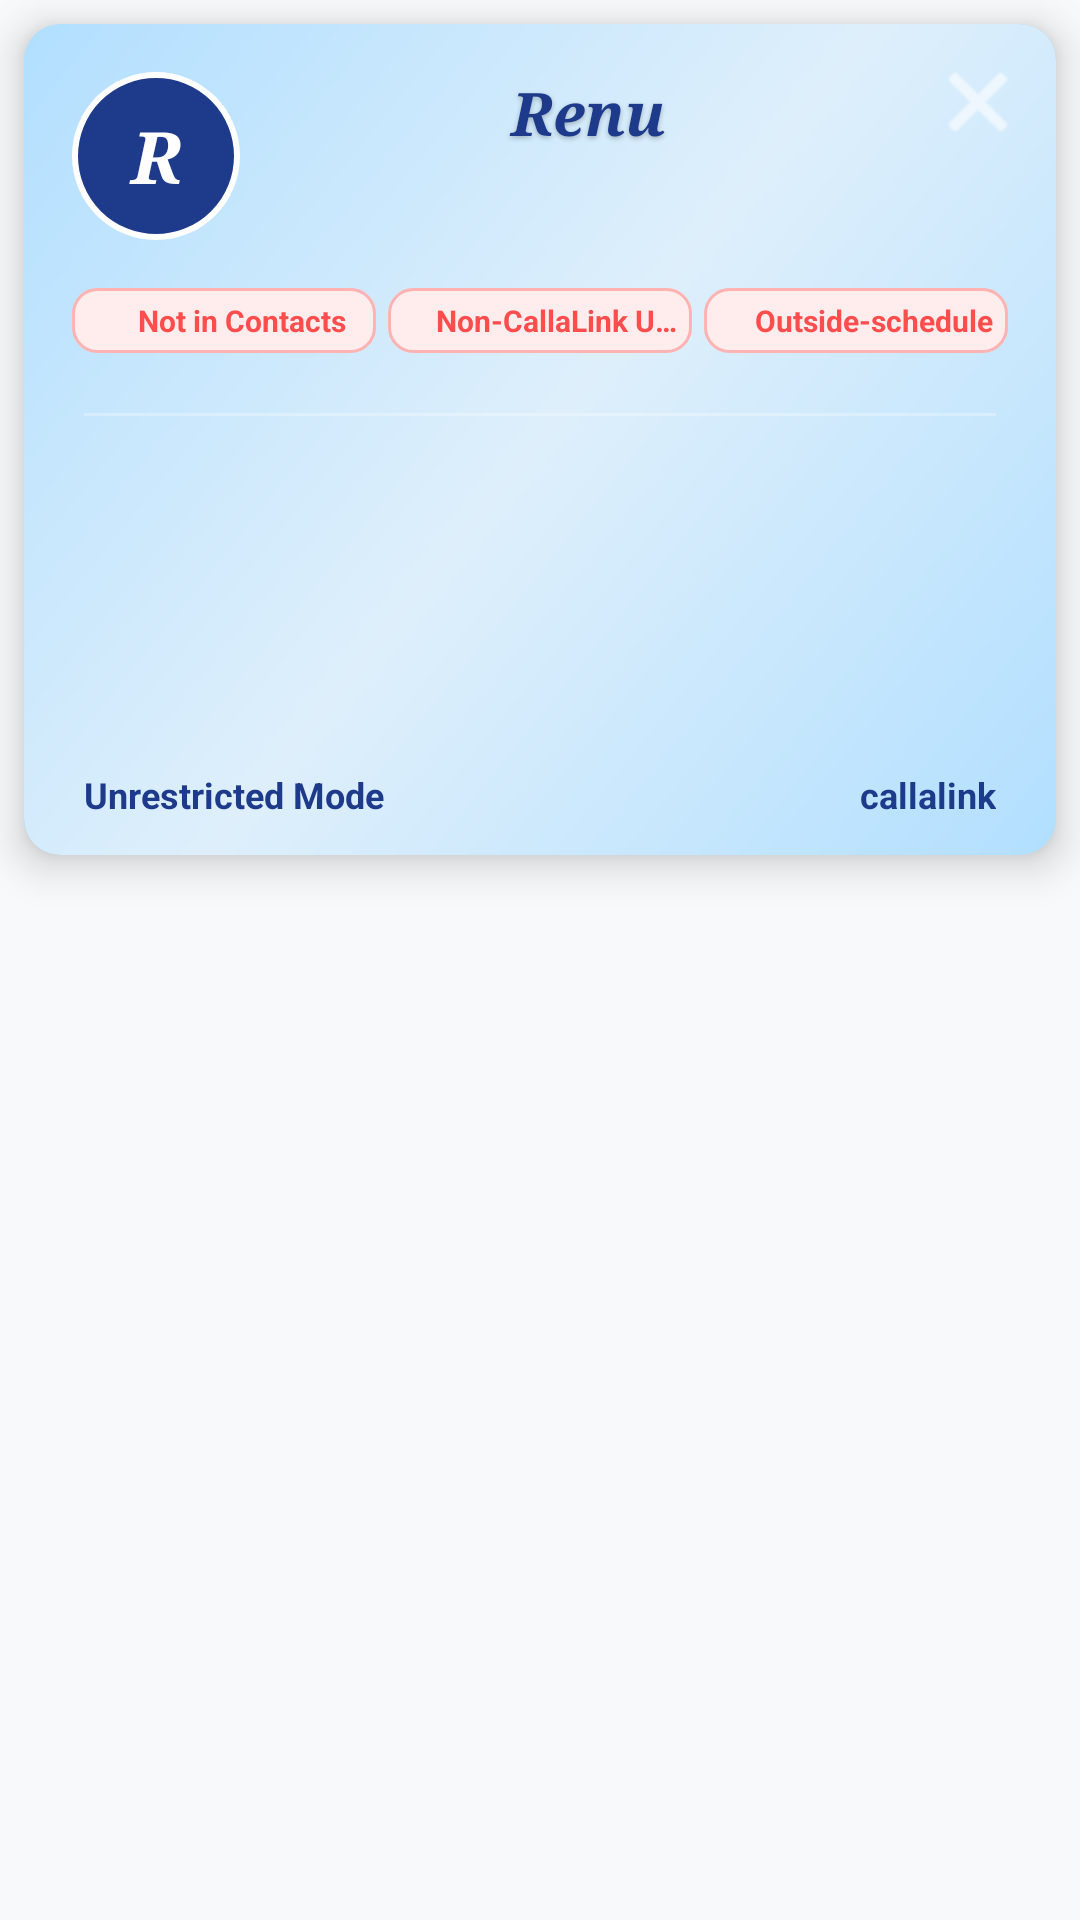

Icons on this 1080 × 1920 Android screen, each with the point to tap as (x,y):
Close: (978,102)
